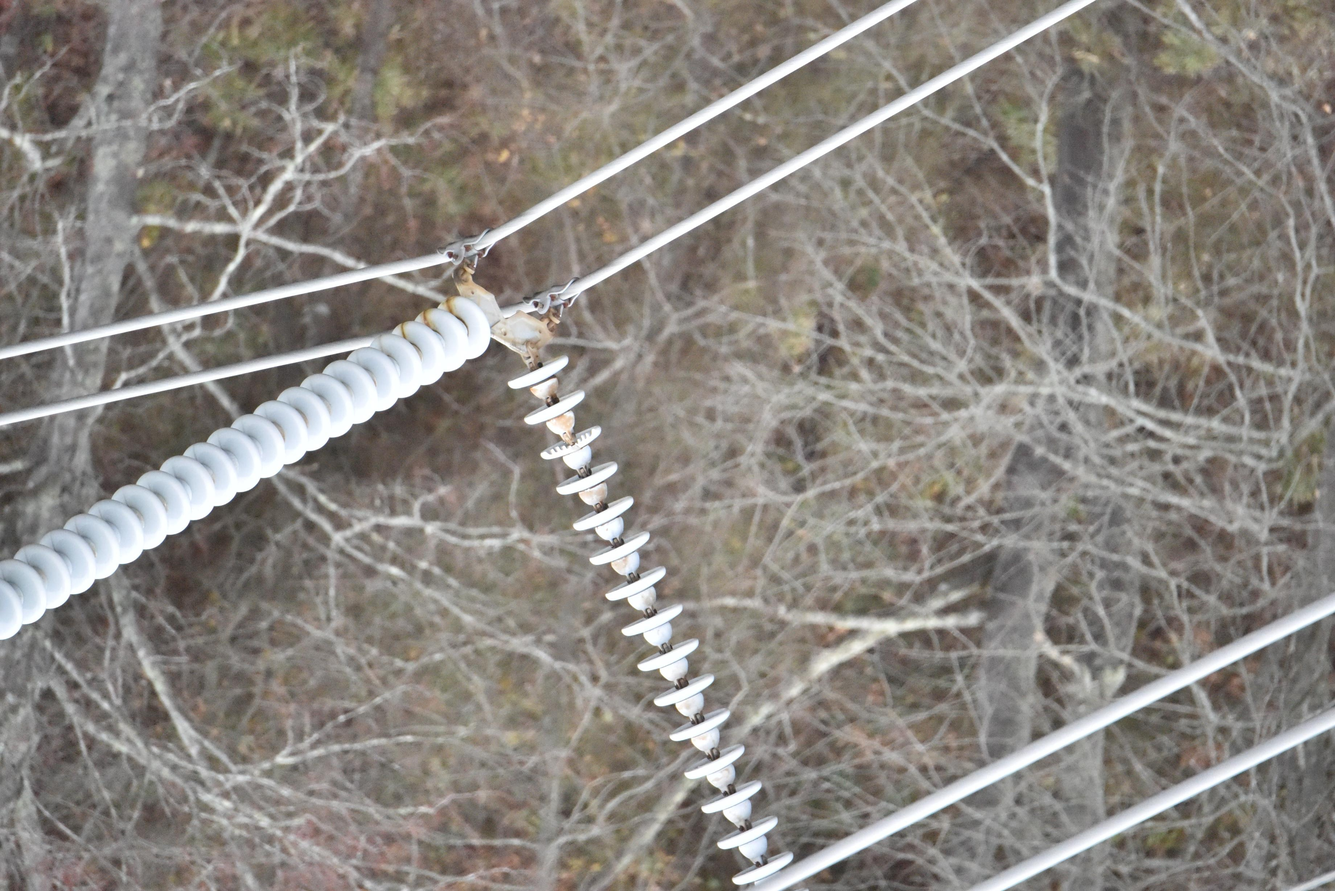damaged: (541, 426, 603, 463)
insulator: (0, 296, 488, 636), (506, 357, 789, 883)
